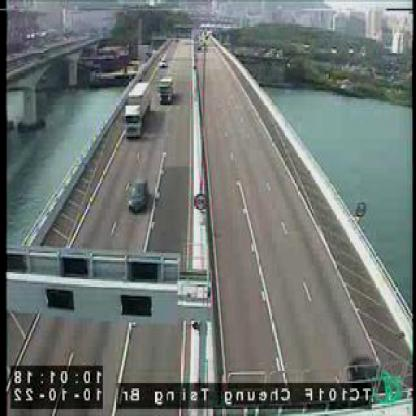Car: (127, 176, 148, 211), (159, 55, 168, 67)
Truck: (125, 79, 151, 137), (158, 76, 172, 104)
